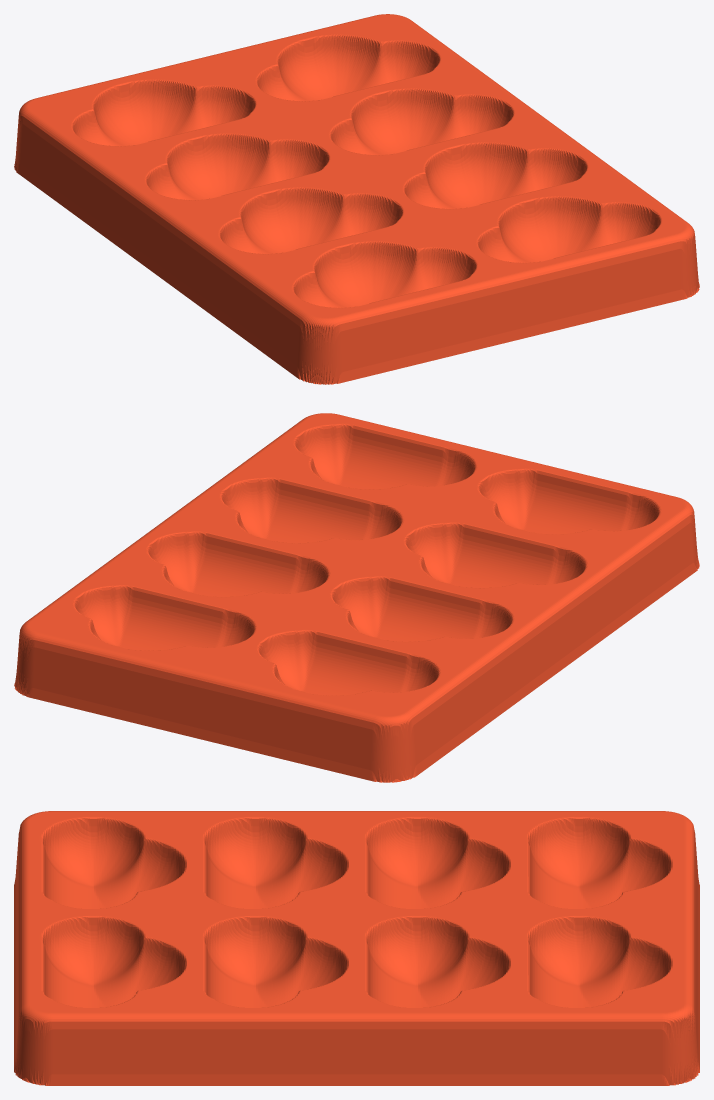
File: mold.glb
3 renders of one model, top to bottom at view 1: azimuth 30°, elevation 25°; view 2: azimuth 150°, elevation 25°; view 3: azimuth 270°, elevation 25°, orthographic. The views are drawn at different scales.
Visible parts, largest first — view 1: geometry_0; view 2: geometry_0; view 3: geometry_0.
Boxes of the visible parts, left/top/right/bottom form: geometry_0: left=14, top=14, right=699, bottom=384; geometry_0: left=14, top=413, right=699, bottom=782; geometry_0: left=14, top=811, right=699, bottom=1085.
Bounding box in the file's own units: 0.1209 × 0.0175 × 0.1637.
